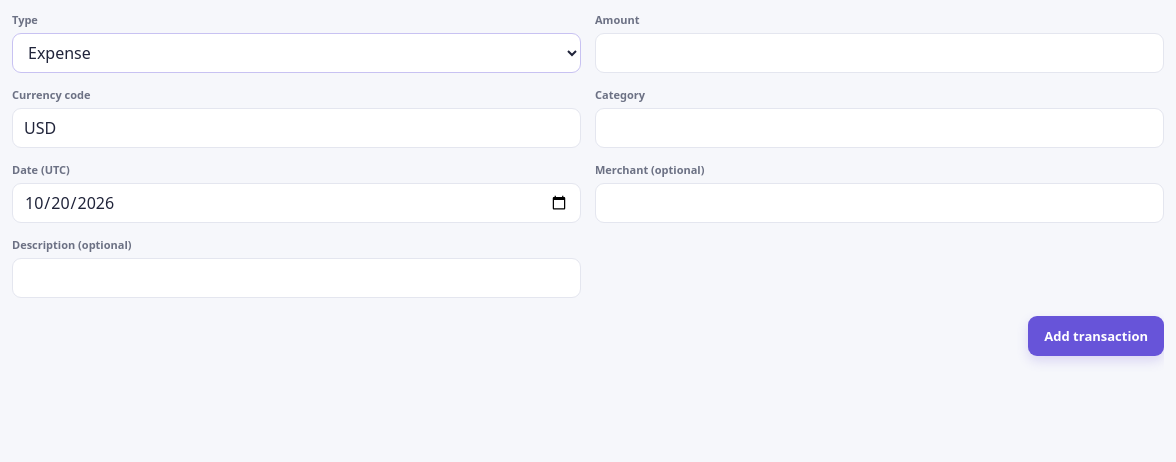
Test case: TransactionForm › shows an accessible error for invalid amounts
In the number field labelled "Amount": (880,53) left=595, top=33, right=1164, bottom=73, type "0"
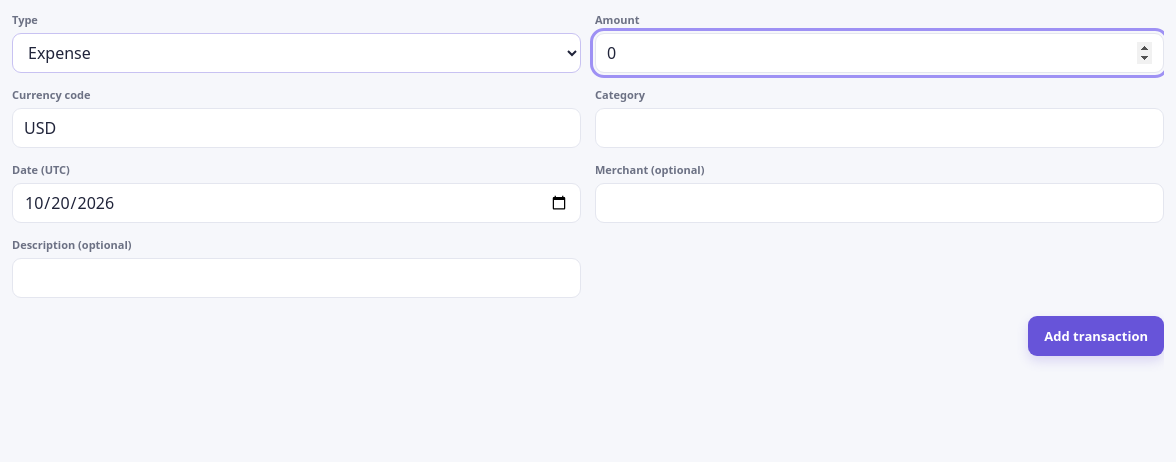
In the field labelled "Category": (880,128) left=595, top=108, right=1164, bottom=148, type "coffee"
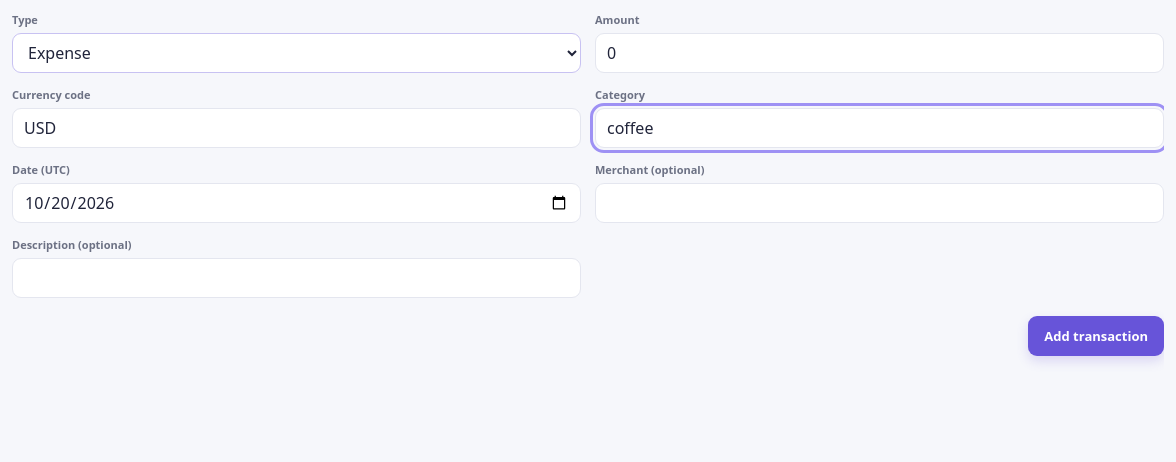
Click the button "Add transaction": (1096,336) left=1028, top=316, right=1164, bottom=356
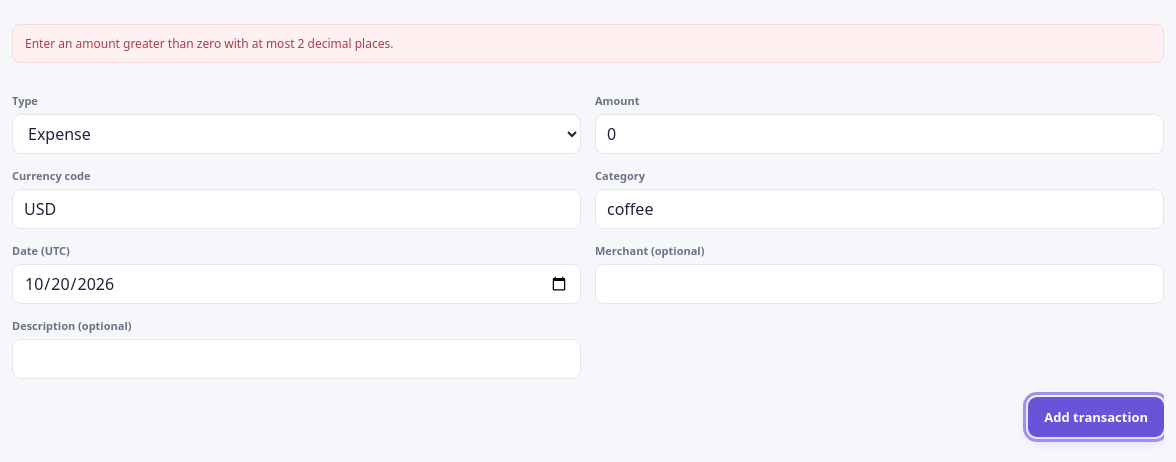
Expected: the message shows "Enter an amount greater than zero", left=25, top=35, right=394, bottom=52
